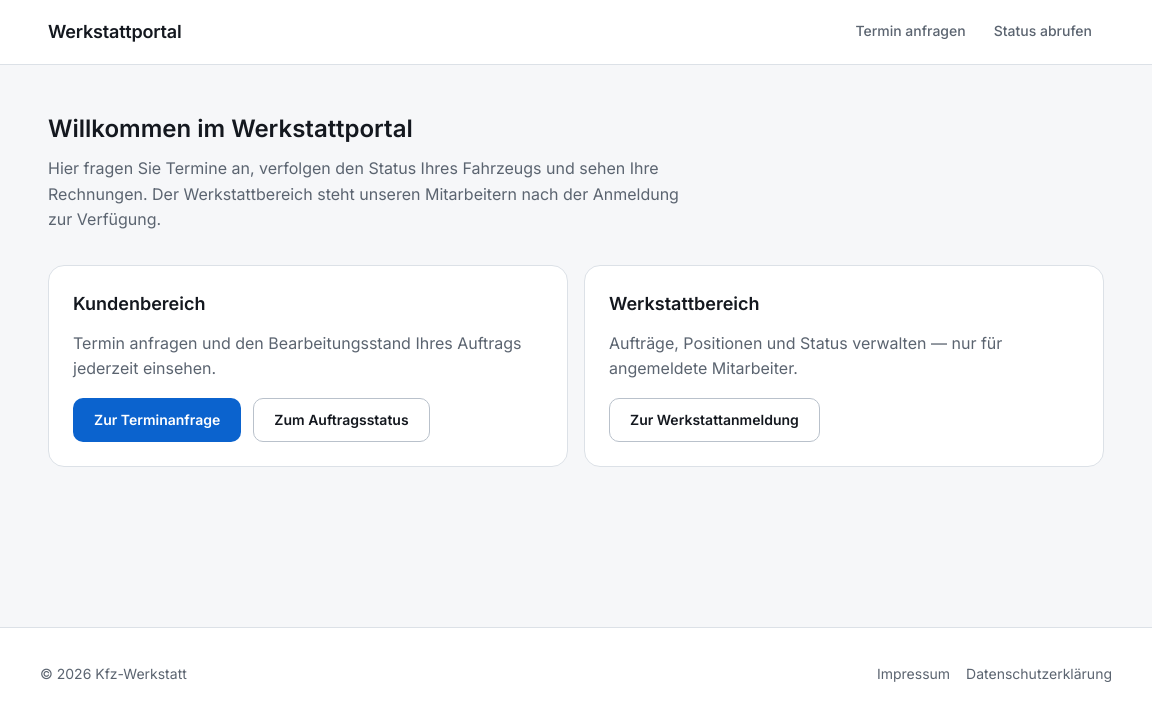
Test: legal pages › navigates from a footer link to the Impressum page
Click the link "Impressum" at (914, 673), box [877,665,950,682]
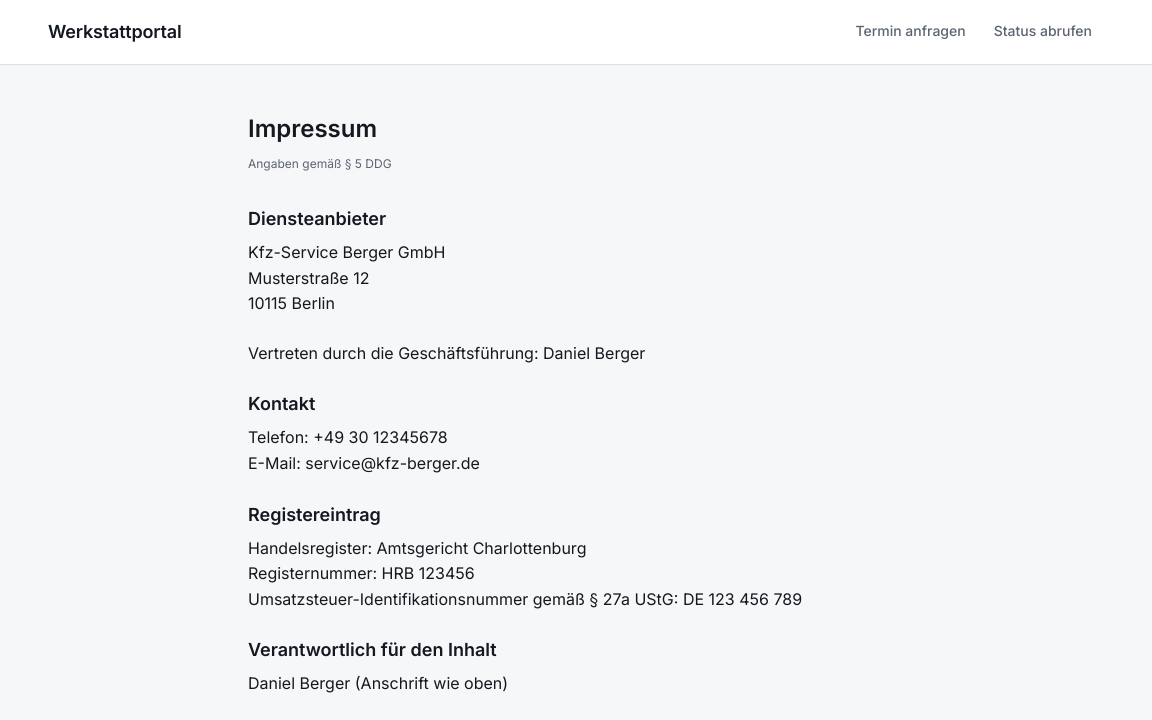
expect the heading "Impressum" is shown: met, box [248,114,377,143]
